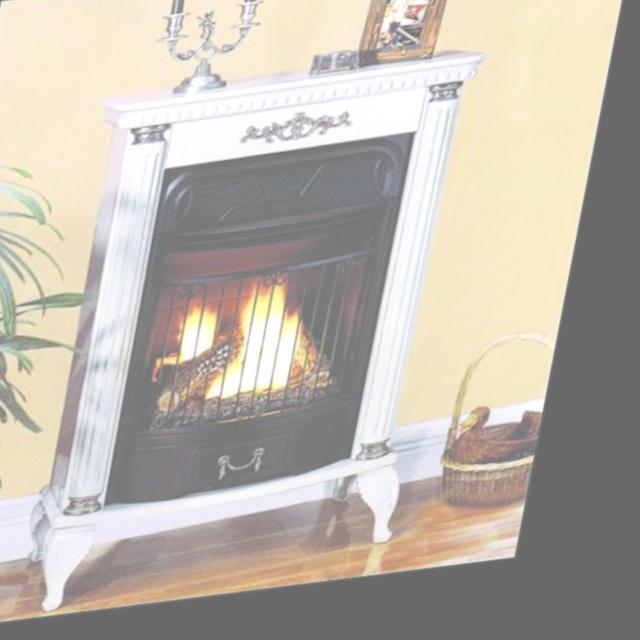Fire: (156, 280, 347, 420)
